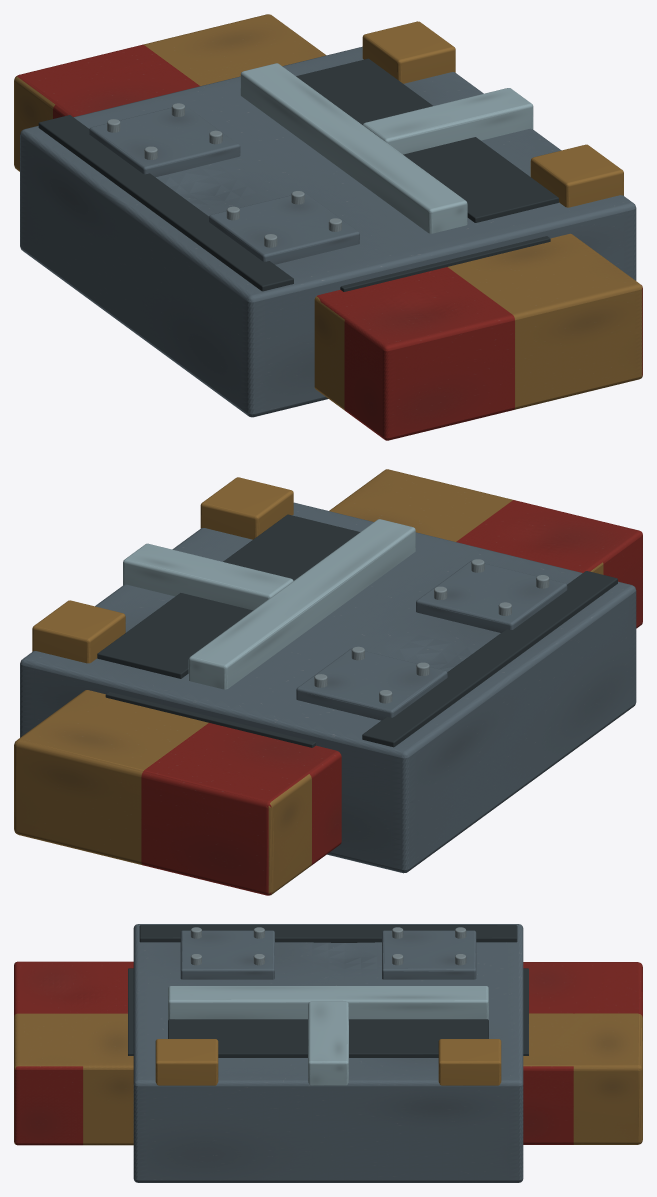
The picture shows the model from 3 angles, top to bottom: view 1: azimuth 30°, elevation 25°; view 2: azimuth 150°, elevation 25°; view 3: azimuth 270°, elevation 25°; orthographic projection. The views are drawn at different scales.
Parts seen in each view (by area): view 1: Mauna Ground Unit central casing, Mauna Ground Unit forward terminal, Mauna Ground Unit rear terminal, Mauna Ground Unit pale side spine, Mauna Ground Unit dark inset floor 0, Mauna Ground Unit dark longitudinal field, Mauna Ground Unit pale centre crossbar, Mauna Ground Unit service cover 1, Mauna Ground Unit service cover 0, Mauna Ground Unit ochre side pad 0, Mauna Ground Unit ochre side pad 1, Mauna Ground Unit forward terminal seam; view 2: Mauna Ground Unit central casing, Mauna Ground Unit rear terminal, Mauna Ground Unit forward terminal, Mauna Ground Unit pale side spine, Mauna Ground Unit dark inset floor 0, Mauna Ground Unit dark longitudinal field, Mauna Ground Unit pale centre crossbar, Mauna Ground Unit service cover 1, Mauna Ground Unit service cover 0, Mauna Ground Unit ochre side pad 1, Mauna Ground Unit ochre side pad 0, Mauna Ground Unit rear terminal seam; view 3: Mauna Ground Unit central casing, Mauna Ground Unit forward terminal, Mauna Ground Unit rear terminal, Mauna Ground Unit pale side spine, Mauna Ground Unit dark inset floor 0, Mauna Ground Unit dark longitudinal field, Mauna Ground Unit service cover 0, Mauna Ground Unit service cover 1, Mauna Ground Unit pale centre crossbar, Mauna Ground Unit ochre side pad 0, Mauna Ground Unit ochre side pad 1, Mauna Ground Unit forward terminal seam (+1 smaller).
Part boxes in pixels (x1,y1,x2,y2): Mauna Ground Unit central casing: (20, 46, 636, 417); Mauna Ground Unit forward terminal: (314, 233, 642, 440); Mauna Ground Unit rear terminal: (14, 14, 326, 171); Mauna Ground Unit pale side spine: (240, 63, 467, 233); Mauna Ground Unit dark inset floor 0: (296, 58, 558, 222); Mauna Ground Unit dark longitudinal field: (38, 115, 293, 291); Mauna Ground Unit pale centre crossbar: (363, 88, 533, 154); Mauna Ground Unit service cover 1: (89, 105, 240, 177); Mauna Ground Unit service cover 0: (209, 192, 359, 264); Mauna Ground Unit ochre side pad 0: (530, 144, 623, 207); Mauna Ground Unit ochre side pad 1: (362, 21, 455, 83); Mauna Ground Unit forward terminal seam: (340, 236, 550, 291); Mauna Ground Unit central casing: (20, 502, 636, 873); Mauna Ground Unit rear terminal: (14, 690, 341, 895); Mauna Ground Unit forward terminal: (329, 469, 642, 628); Mauna Ground Unit pale side spine: (188, 519, 415, 689); Mauna Ground Unit dark inset floor 0: (97, 514, 360, 678); Mauna Ground Unit dark longitudinal field: (362, 571, 617, 747); Mauna Ground Unit pale centre crossbar: (123, 543, 293, 610); Mauna Ground Unit service cover 1: (296, 648, 447, 720); Mauna Ground Unit service cover 0: (416, 560, 567, 632); Mauna Ground Unit ochre side pad 1: (32, 600, 125, 663); Mauna Ground Unit ochre side pad 0: (200, 477, 293, 539); Mauna Ground Unit rear terminal seam: (105, 692, 315, 747); Mauna Ground Unit central casing: (133, 924, 523, 1182); Mauna Ground Unit forward terminal: (14, 961, 133, 1145); Mauna Ground Unit rear terminal: (523, 962, 642, 1144); Mauna Ground Unit pale side spine: (168, 986, 488, 1019); Mauna Ground Unit dark inset floor 0: (168, 1019, 488, 1057); Mauna Ground Unit dark longitudinal field: (139, 925, 517, 942); Mauna Ground Unit service cover 0: (180, 930, 274, 979); Mauna Ground Unit service cover 1: (382, 930, 476, 979); Mauna Ground Unit pale centre crossbar: (308, 1001, 348, 1085); Mauna Ground Unit ochre side pad 0: (155, 1039, 218, 1085); Mauna Ground Unit ochre side pad 1: (438, 1039, 501, 1085); Mauna Ground Unit forward terminal seam: (128, 968, 133, 1055).
Size of the model in its own units: 1.2 by 0.4425 by 2.
6 materials, 3 textured.
